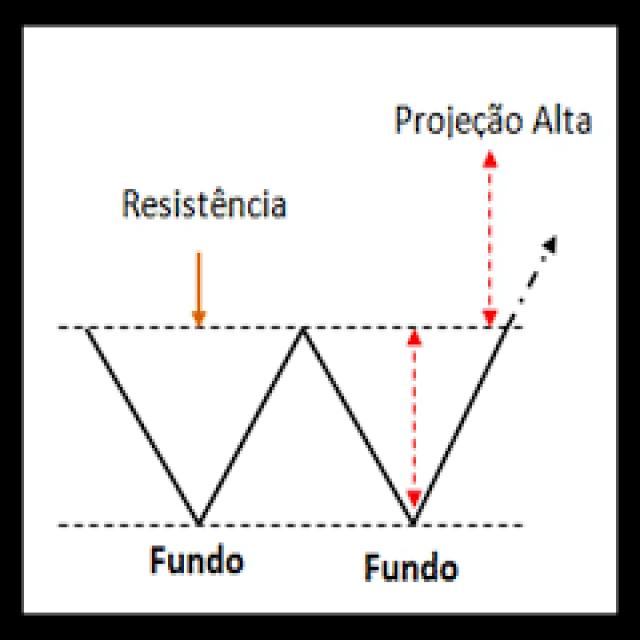fundo_duplo: (58, 231, 566, 549)
